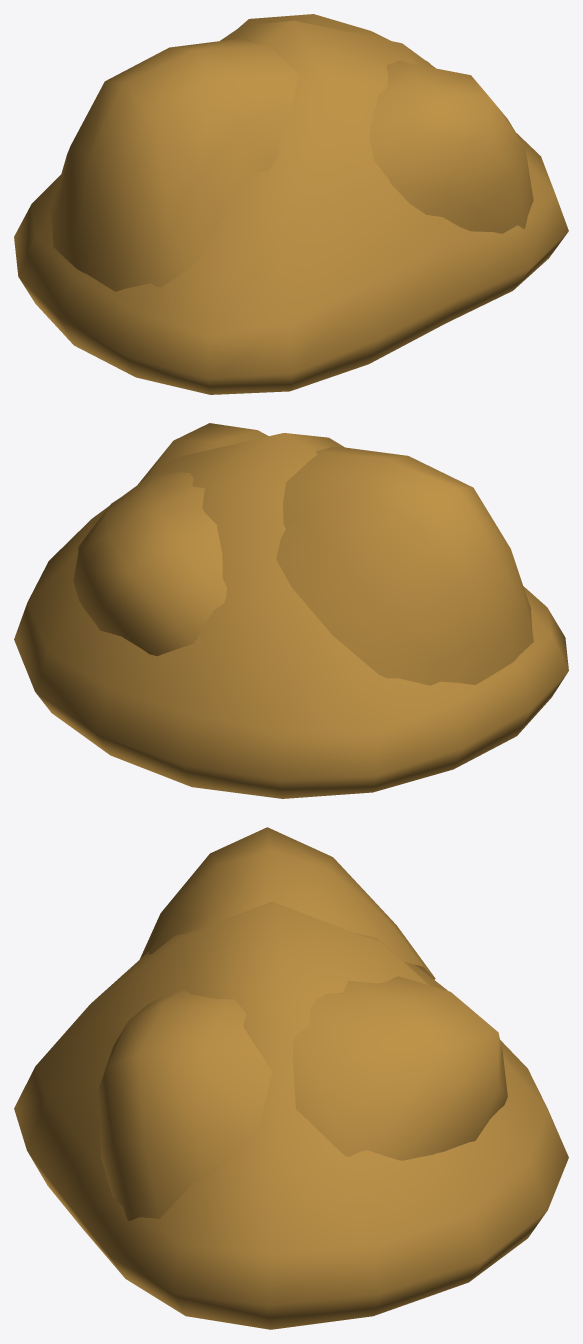
Rendered from bush_01.fbx.
The picture shows the model from 3 angles, top to bottom: view 1: azimuth 30°, elevation 25°; view 2: azimuth 150°, elevation 25°; view 3: azimuth 270°, elevation 25°; orthographic projection. The views are drawn at different scales.
Parts seen in each view (by area): view 1: bush2; view 2: bush2; view 3: bush2.
Boxes of the visible parts, x1,y1,x2,y2 form: bush2: [14, 14, 568, 394]; bush2: [14, 423, 568, 798]; bush2: [14, 827, 568, 1329].
Size of the model in its own units: 2.34 by 1.25 by 1.99.
